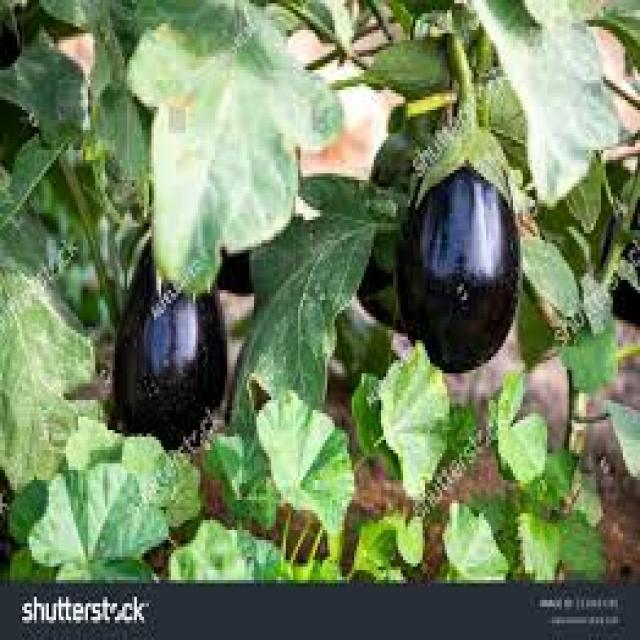Eggplant: (398, 36, 522, 378), (111, 187, 232, 473)
